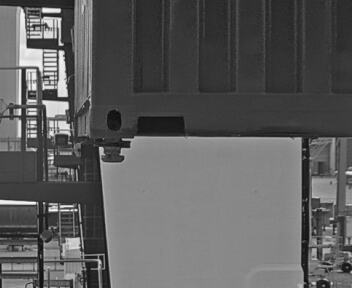twist_lock_1: (90, 133, 137, 170)
